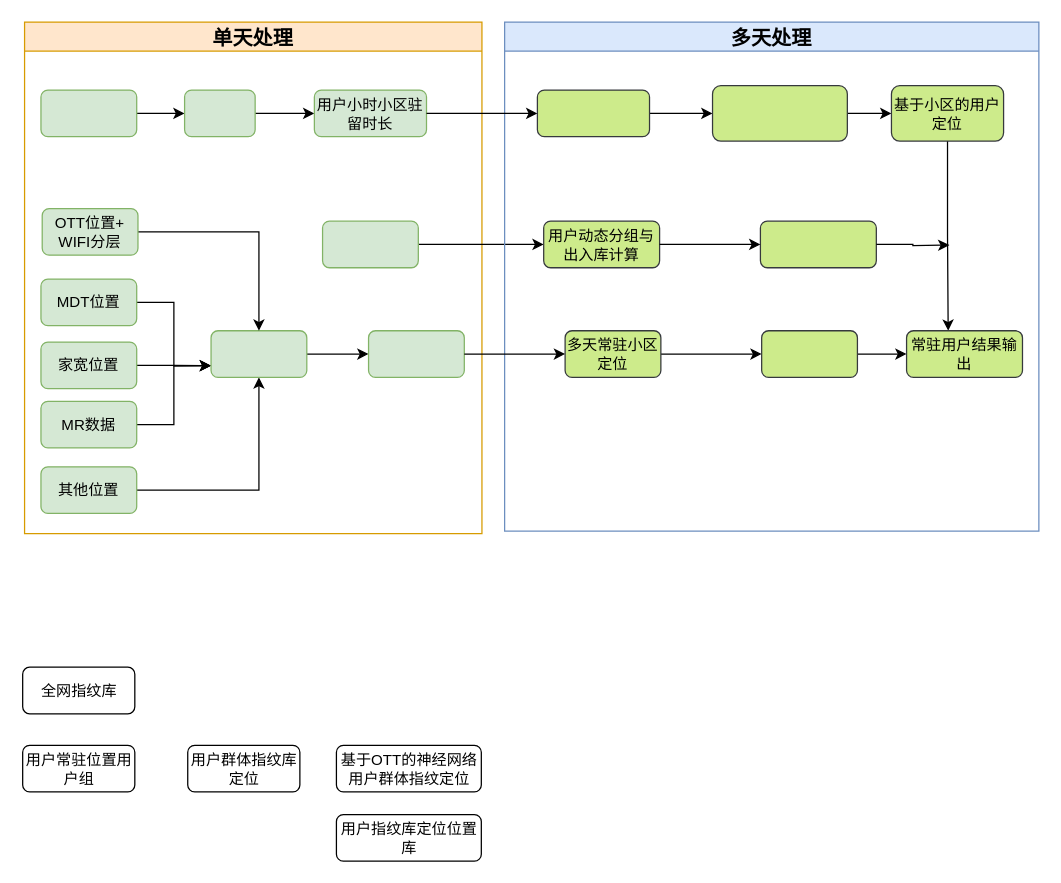
Some shapes in this 1061 by 883 pixel diagram are drawn without their labels. The shapes that lost their labels are listed below. From the top down, each one's centre as x and y in pixels, then its label:
point (88, 113): XDR数据
point (219, 113): 用户小区切换序列
point (593, 113): 用户常驻区域识别
point (779, 112): 用户最长驻留特性小区：工作小区、家庭小区
point (369, 244): 用户邻区数据
point (817, 244): 组内用户共享位置信息
point (258, 353): 用户位置库 &MR指标
point (415, 353): 用户小区天静止位置
point (808, 353): 用户多天位置识别
